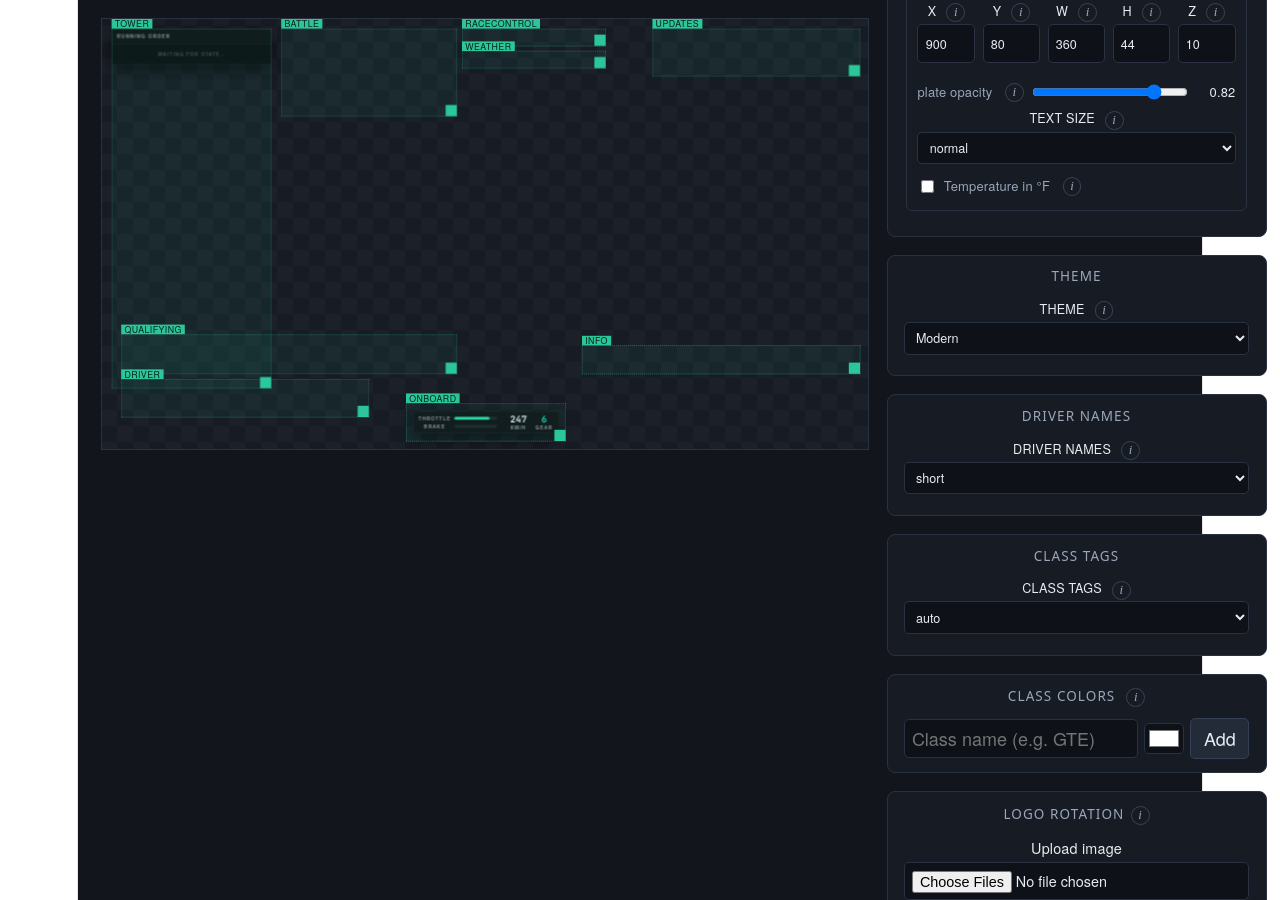
Test: config editor: the overlay-wide driver name style (rule 43) › explains the control in the UI
(page scrolled)
Click the button with test id "help-name-style".
click(1130, 450)  # box [1121,441,1140,460]
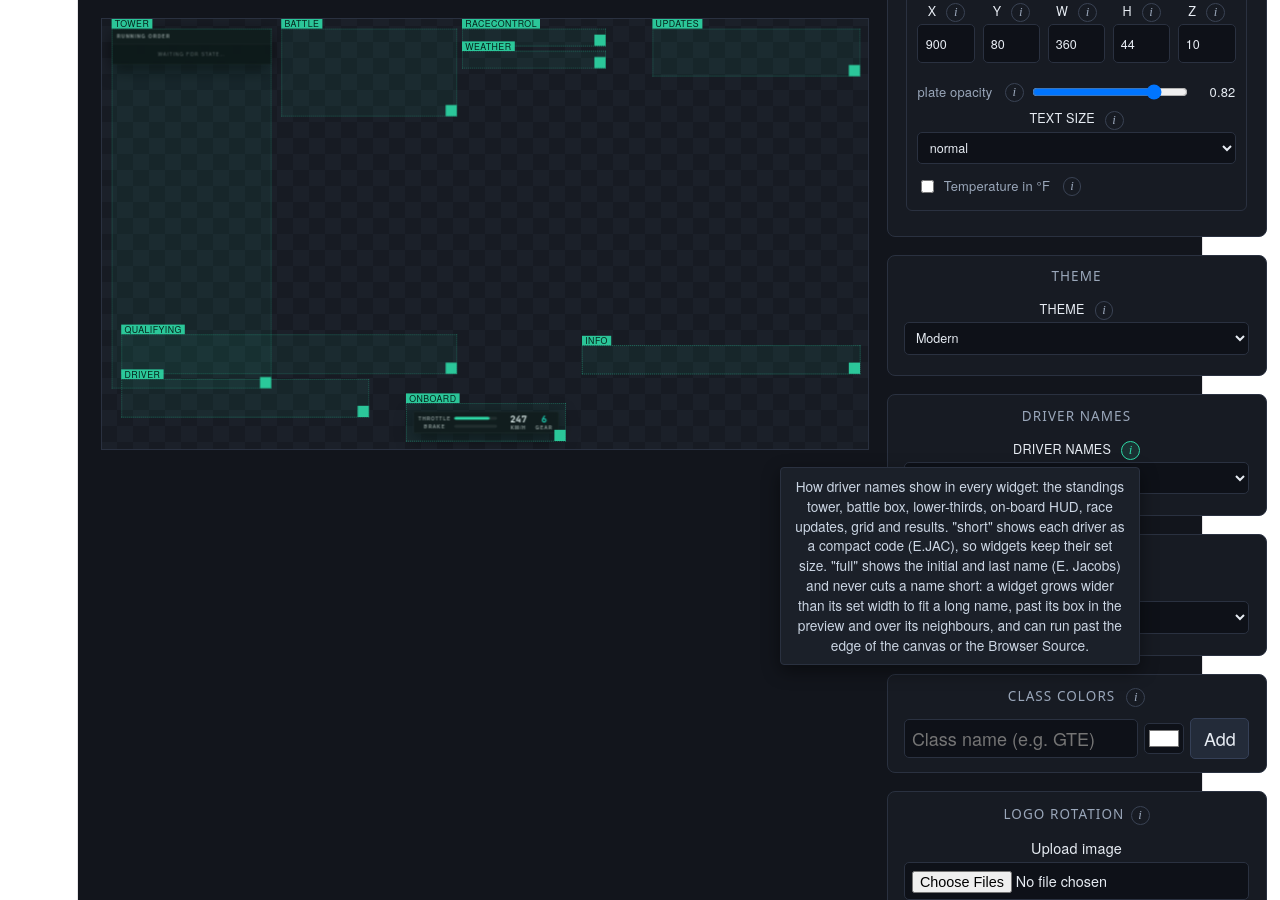
Check: the tooltip with test id "help-name-style-text" is shown, box [780,467,1140,666]
